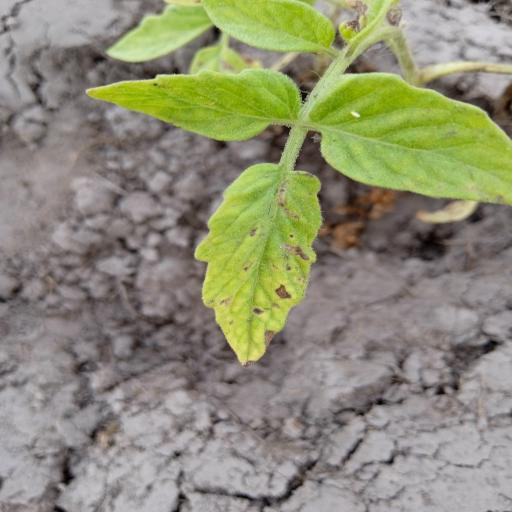Tomato_Brown_Spots: (309, 73, 512, 211), (194, 162, 327, 372), (86, 67, 304, 142)
